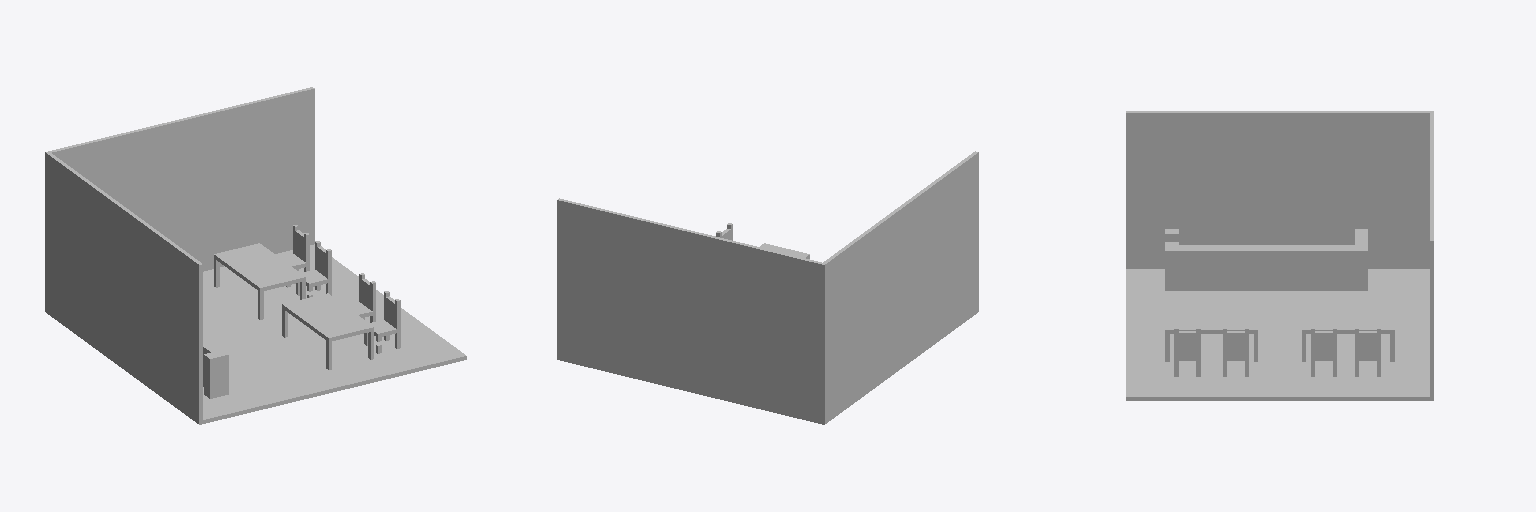
The model's file is escenario.obj.
3 renders of one model, left to right at view 1: azimuth 30°, elevation 25°; view 2: azimuth 150°, elevation 25°; view 3: azimuth 270°, elevation 25°, orthographic.
Visible parts, largest first — view 1: object 1; view 2: object 1; view 3: object 1.
Part boxes in pixels (x1,y1,x2,y2): object 1: (45, 87, 466, 424); object 1: (557, 151, 978, 424); object 1: (1126, 111, 1433, 400).
Bounding box in the file's own units: 7 × 4 × 7.